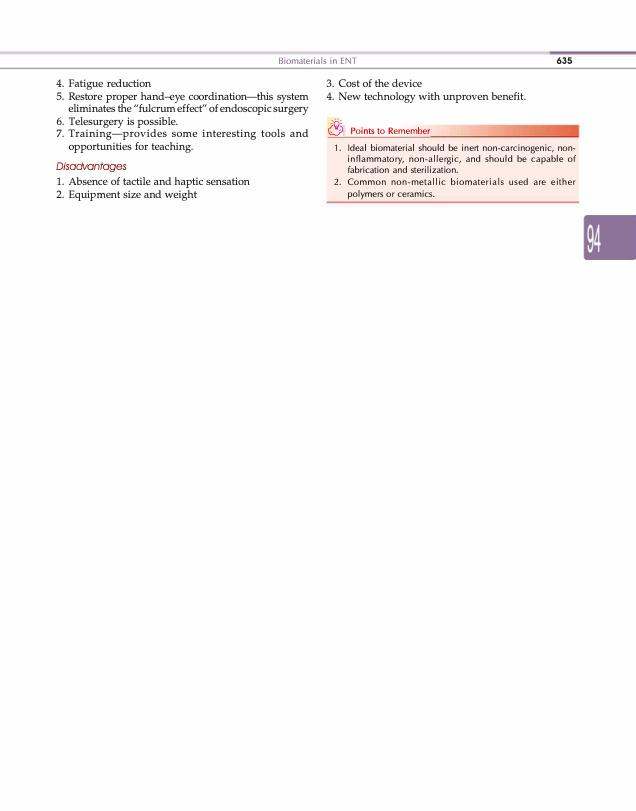caption: (350, 126, 431, 135)
header: (278, 55, 358, 65)
list: (55, 77, 310, 155), (333, 142, 577, 201), (325, 77, 527, 104), (55, 176, 251, 202)
sub-section-heading: (54, 160, 127, 173)
